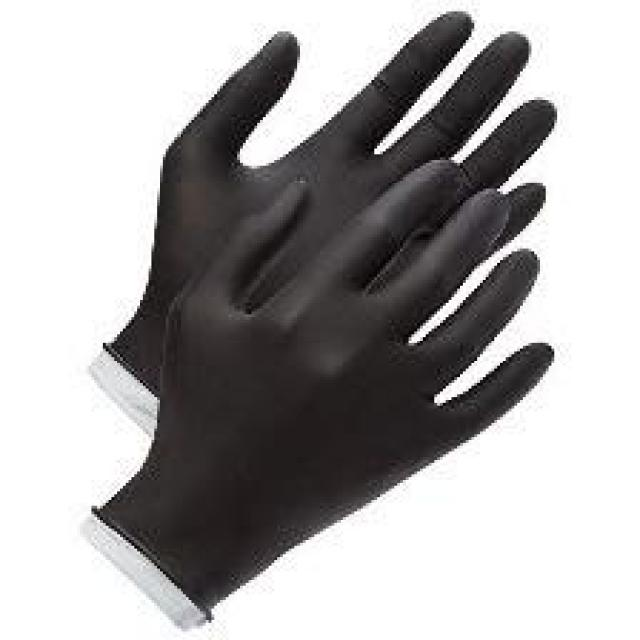Glove: (85, 0, 568, 631)
